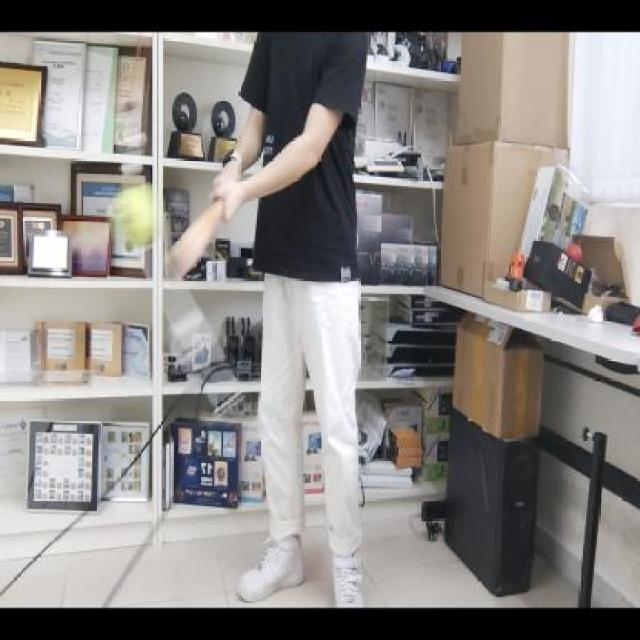baseball: (114, 180, 164, 245)
